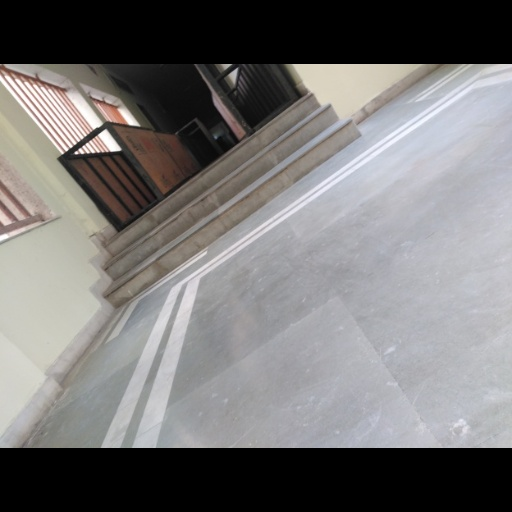Stairs: (104, 93, 360, 307)
